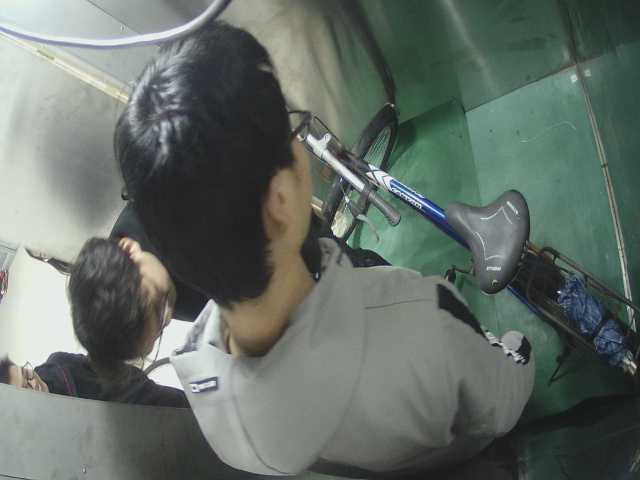bicycle: (279, 95, 639, 394)
person: (121, 28, 545, 472), (68, 199, 223, 364), (1, 353, 198, 412)
